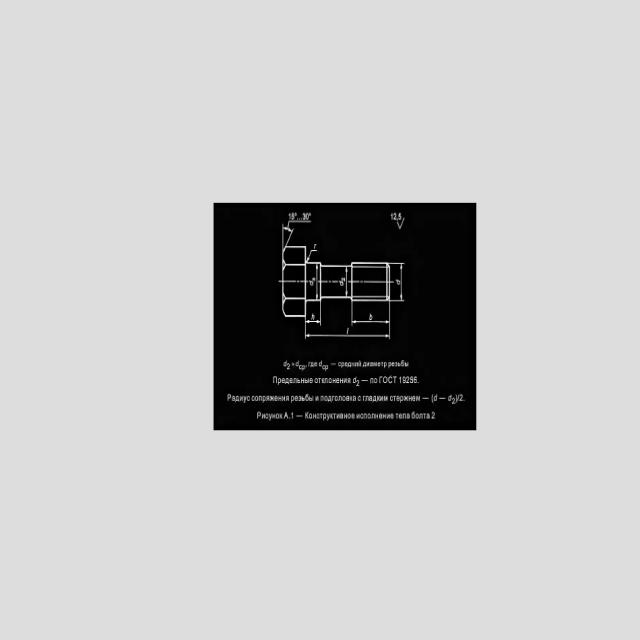marking_line: (304, 318, 391, 340), (351, 302, 392, 326), (283, 219, 313, 246), (391, 263, 405, 302), (281, 223, 295, 246), (305, 318, 322, 326), (307, 249, 318, 261), (344, 267, 348, 296), (315, 264, 318, 299)
numeric: (460, 393, 464, 402), (413, 376, 418, 383), (291, 212, 295, 220), (398, 212, 402, 220), (431, 411, 435, 419), (406, 376, 410, 383), (288, 212, 291, 220), (306, 212, 309, 220), (393, 212, 396, 220), (410, 375, 413, 383), (452, 397, 455, 405), (303, 213, 306, 220), (287, 363, 290, 370), (356, 380, 359, 387), (403, 376, 406, 383), (291, 412, 294, 419), (341, 277, 345, 282), (391, 212, 393, 220), (399, 377, 401, 384)
special_symbol: (397, 218, 405, 229), (295, 212, 297, 216), (309, 213, 311, 216)
